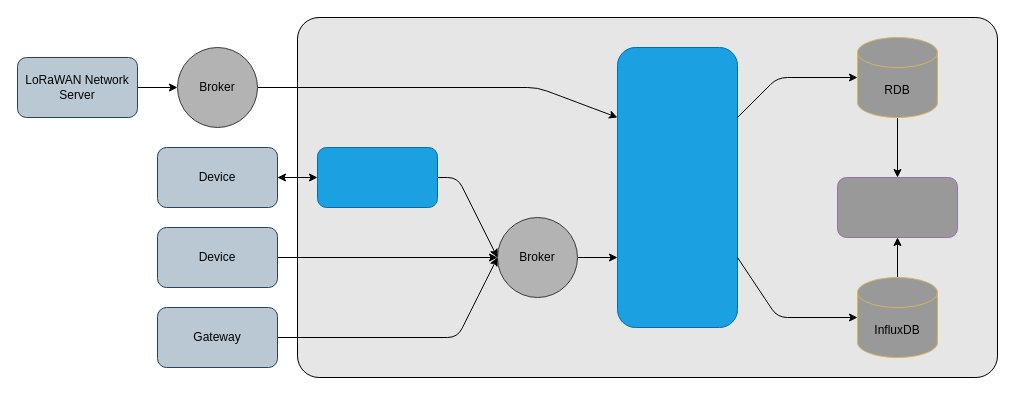
The diagram is 1015 pixels wide and 395 high, and some of its shapes have lost their labels. The shapes that lost their labels are listed below. From the top down, each one's box as (x1, y1, x2, y2) in pixels, then its label:
(316, 146, 438, 208): MODBUS/TCP Agent
(616, 46, 738, 328): Data Processing
(836, 176, 958, 238): Grafana
